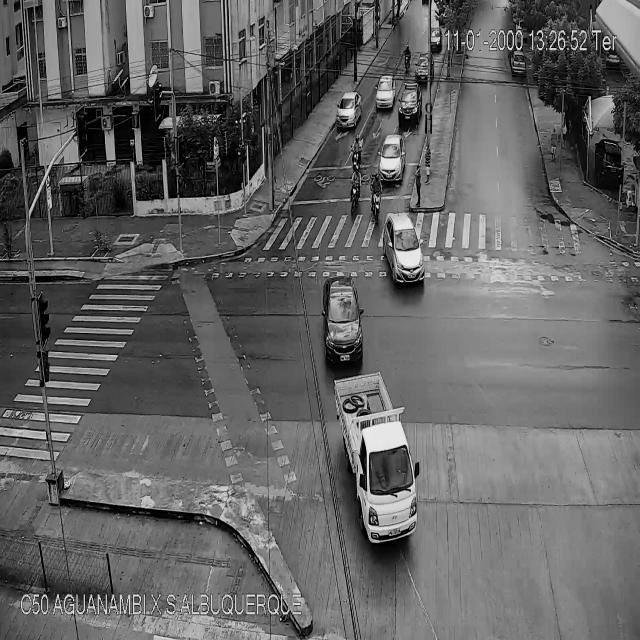Car: (322, 277, 366, 368), (382, 215, 425, 285), (375, 138, 409, 182), (398, 83, 421, 124), (336, 92, 362, 125), (375, 75, 394, 108), (416, 53, 435, 84), (430, 27, 442, 49), (512, 53, 524, 73)
Motorcycle: (370, 171, 382, 225), (350, 164, 360, 219), (403, 42, 412, 74), (350, 136, 361, 162)
Truck: (334, 373, 421, 546)
